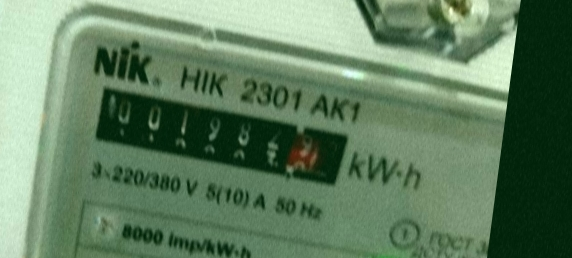0: (111, 91, 131, 122), (141, 98, 161, 129)
1: (172, 102, 188, 133)
2: (261, 117, 283, 148)
8: (231, 114, 251, 144)
9: (291, 127, 315, 157), (201, 109, 219, 140)
screen: (71, 67, 363, 199)
